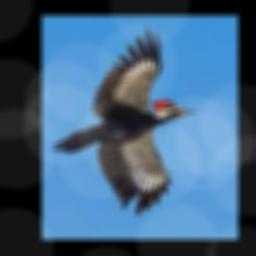Woodpecker: (51, 25, 195, 215)
